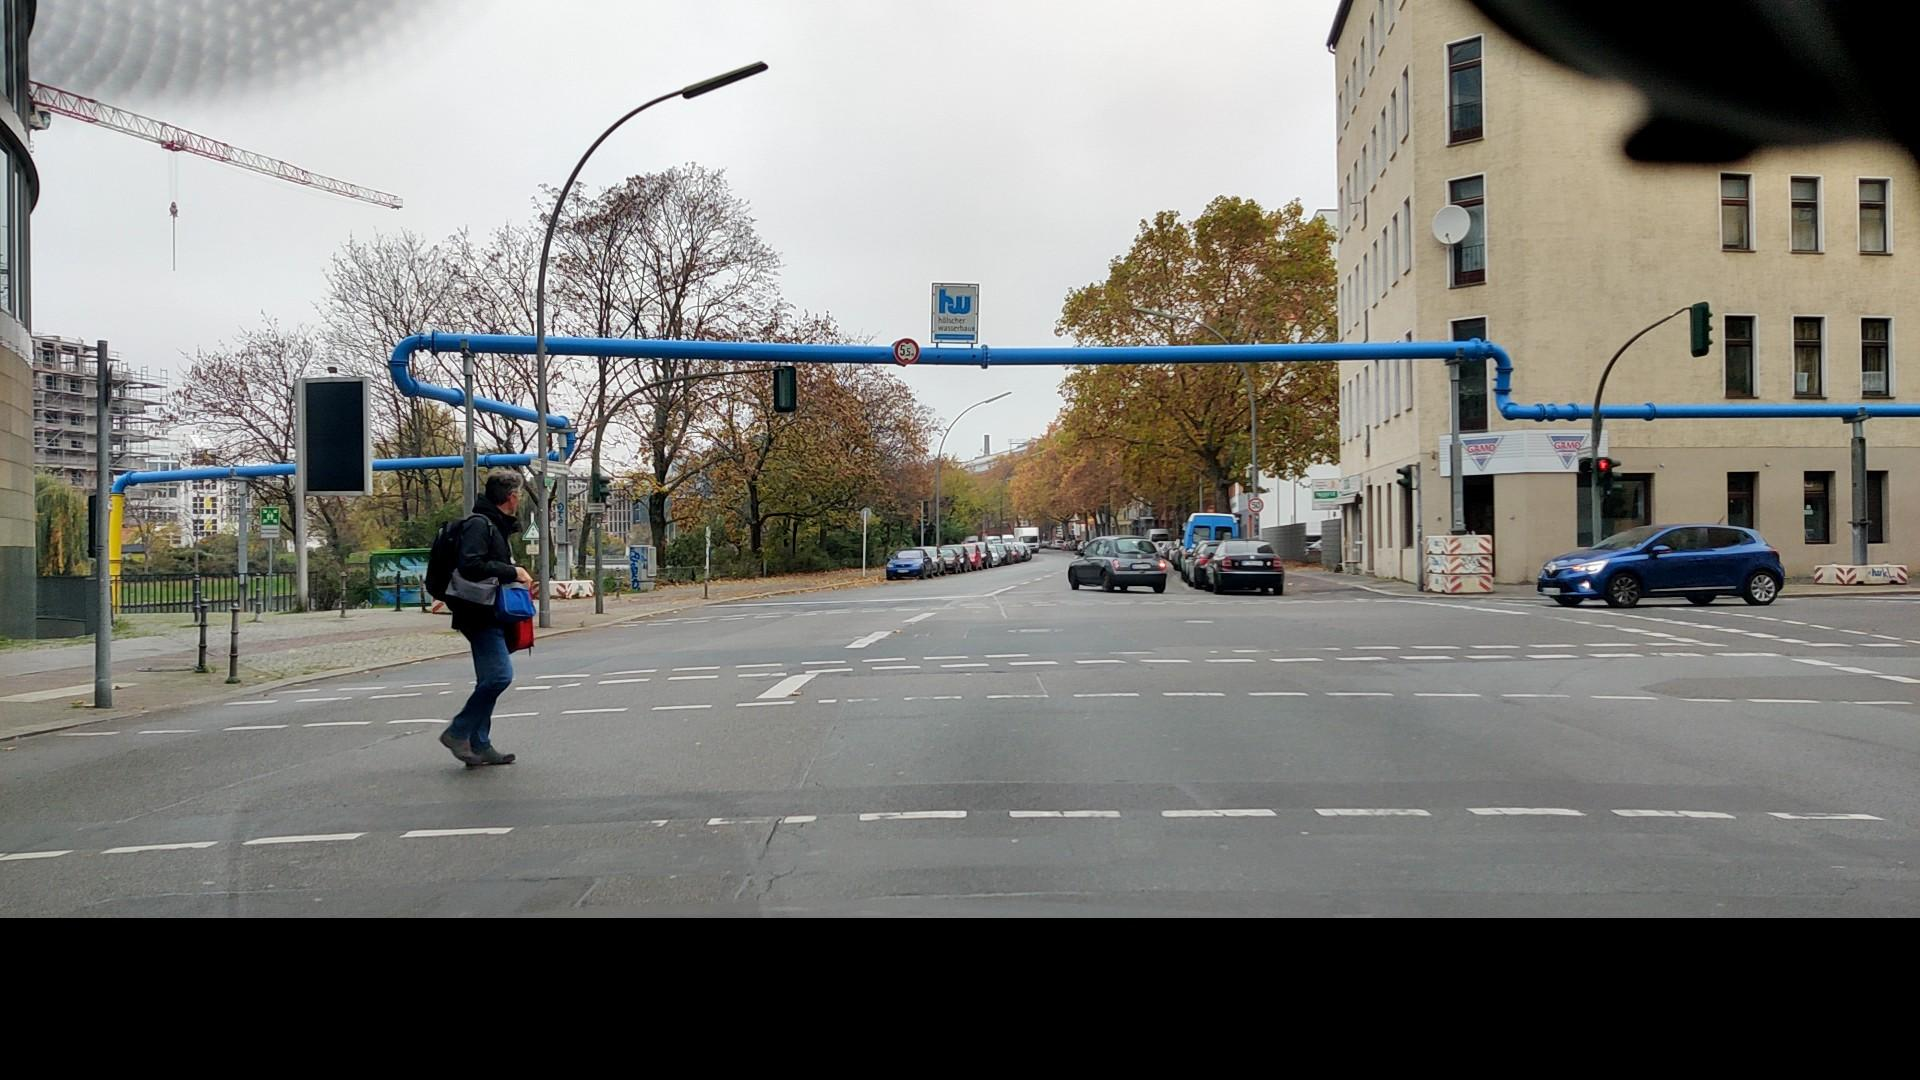Human face: (483, 467, 524, 517)
Vehicle registration plate: (1541, 587, 1560, 596), (1131, 563, 1150, 570), (1241, 560, 1263, 566)
